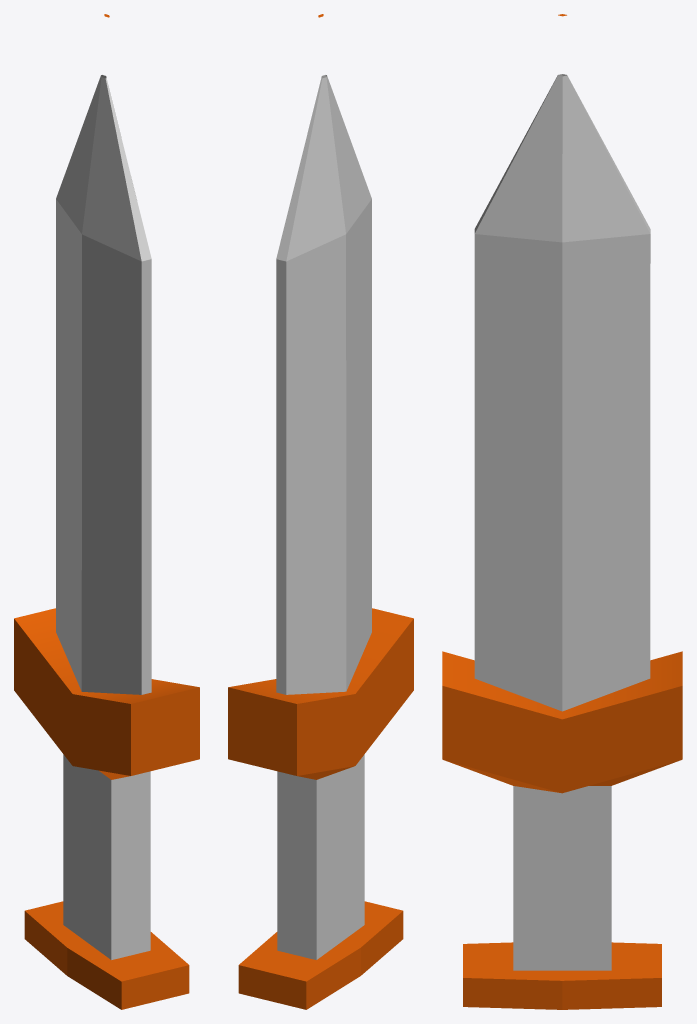
The model's file is Sword.fbx.
3 views of the same model, side by side, from view 1: azimuth 30°, elevation 25°; view 2: azimuth 150°, elevation 25°; view 3: azimuth 270°, elevation 25° (orthographic). The views are drawn at different scales.
Visible parts, largest first — view 1: Cube.002, Cube.001; view 2: Cube.002, Cube.001; view 3: Cube.002, Cube.001.
Part boxes in pixels (x1,y1,x2,y2): Cube.002: [56, 75, 151, 694]; Cube.001: [14, 14, 199, 1009]; Cube.002: [276, 75, 371, 694]; Cube.001: [228, 14, 413, 1009]; Cube.002: [474, 74, 650, 711]; Cube.001: [442, 14, 682, 1009].
Bounding box in the file's own units: 31.98 × 364 × 81.3.
